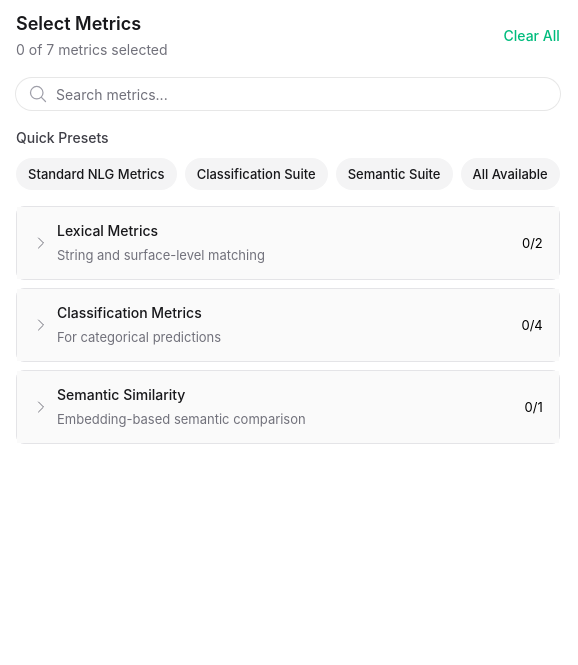
Test case: MetricSelector › Grouped categories › collapses category on second click
Click the heading "Classification Metrics". click: (139, 313)
box: [57,301,221,325]
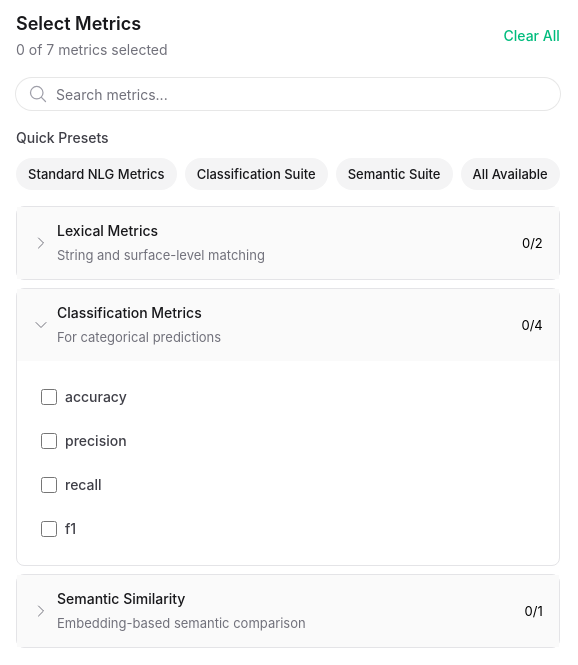
Result: the text "accuracy" is shown at [65,388,127,405]
Click the heading "Classification Metrics". click: (139, 313)
box: [57,301,221,325]
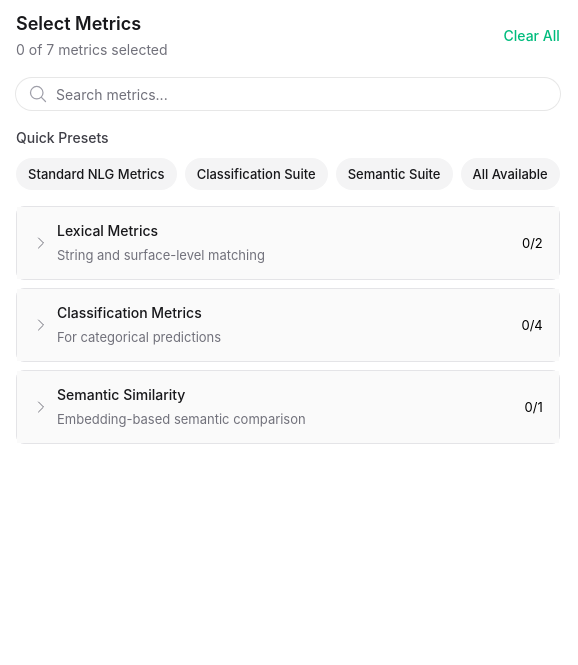
Result: no checkboxes are shown
